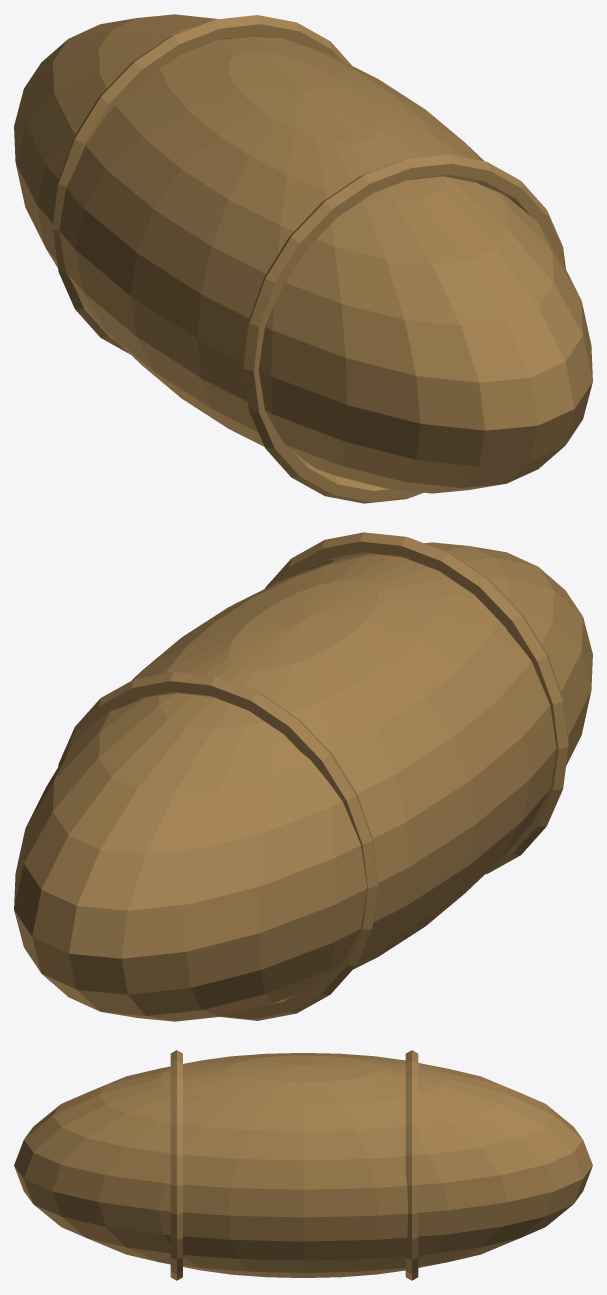
The model's file is burrito.glb.
3 renders of one model, top to bottom at view 1: azimuth 30°, elevation 25°; view 2: azimuth 150°, elevation 25°; view 3: azimuth 270°, elevation 25°, orthographic. The views are drawn at different scales.
Visible parts, largest first — view 1: burrito; view 2: burrito; view 3: burrito.
Boxes of the visible parts, left/top/right/bottom form: burrito: left=14, top=14, right=592, bottom=503; burrito: left=14, top=532, right=592, bottom=1021; burrito: left=14, top=1050, right=592, bottom=1280.
Bounding box in the file's own units: 0.1445 × 0.136 × 0.34.
